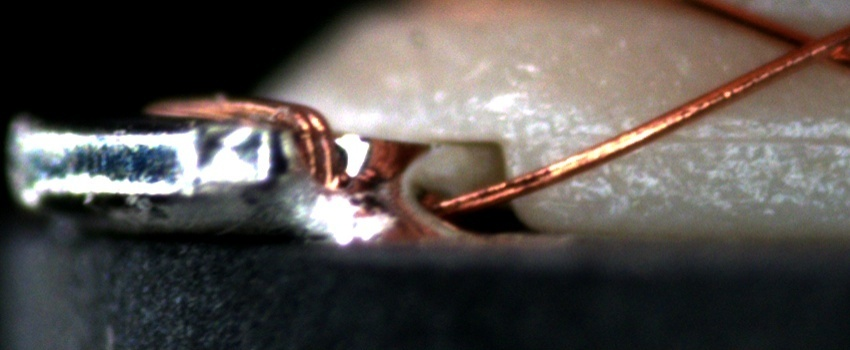CL: (764, 19, 844, 74)
DL: (525, 104, 850, 168)
TE: (146, 86, 350, 200)
